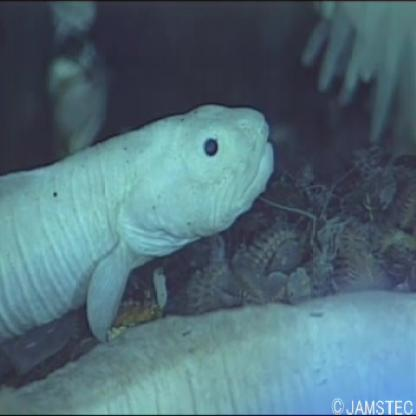Bio: (1, 96, 280, 345)
